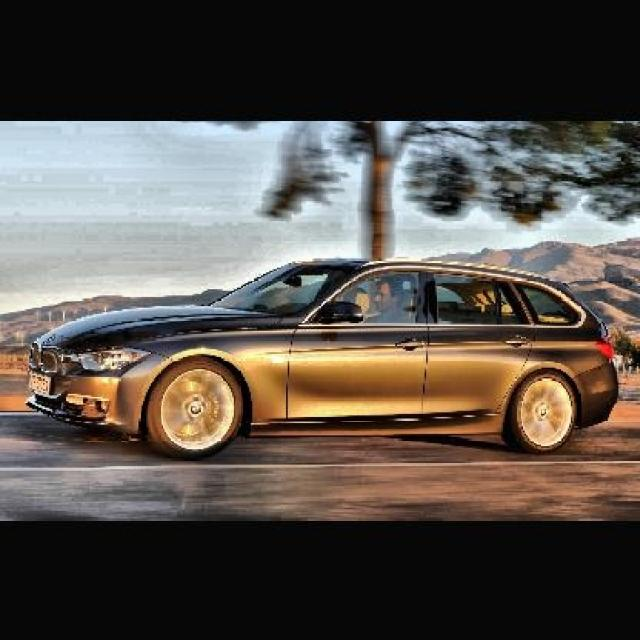black: (51, 237, 640, 455)
